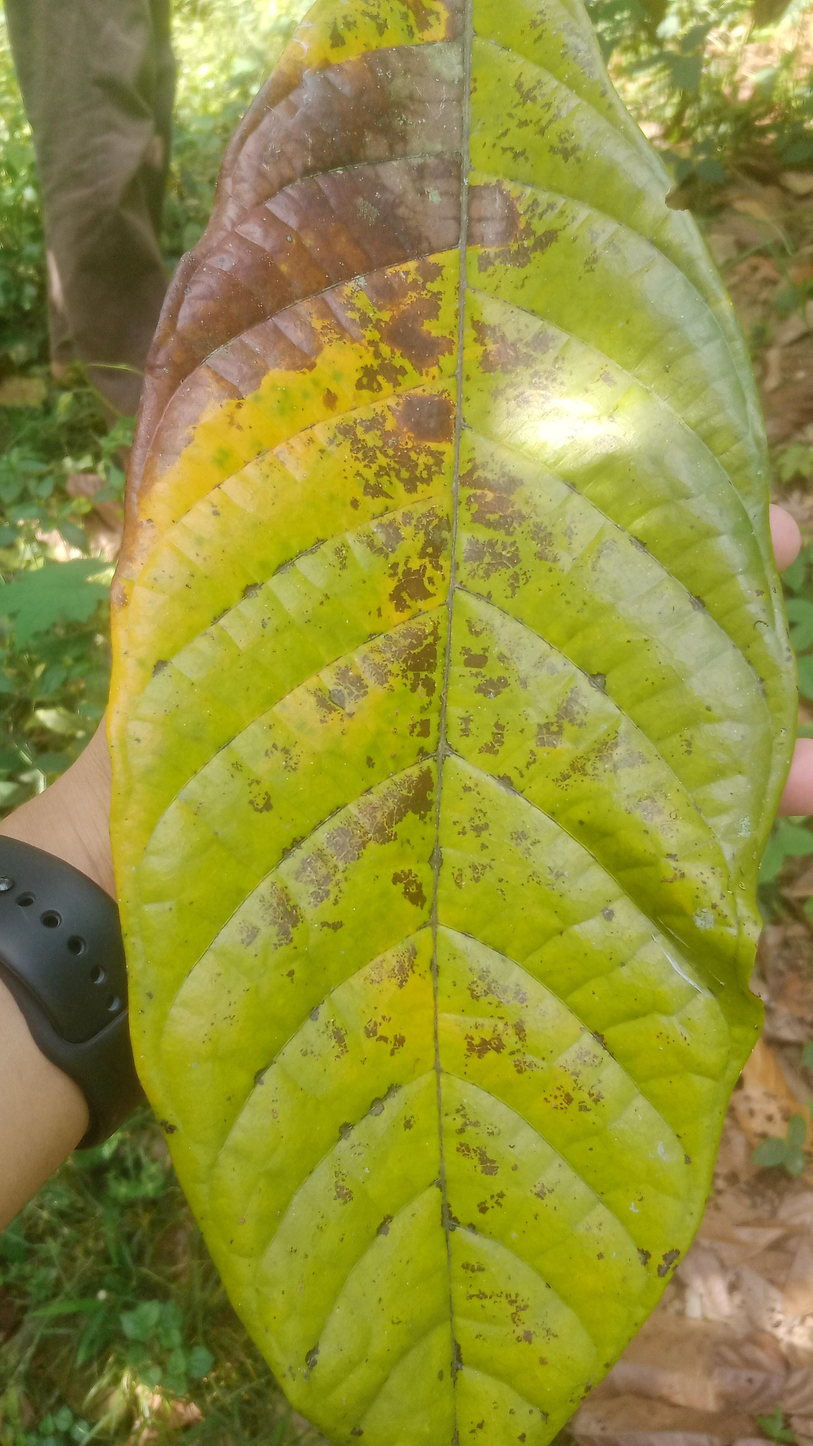deficiencia_potasio: (105, 0, 783, 1446)
